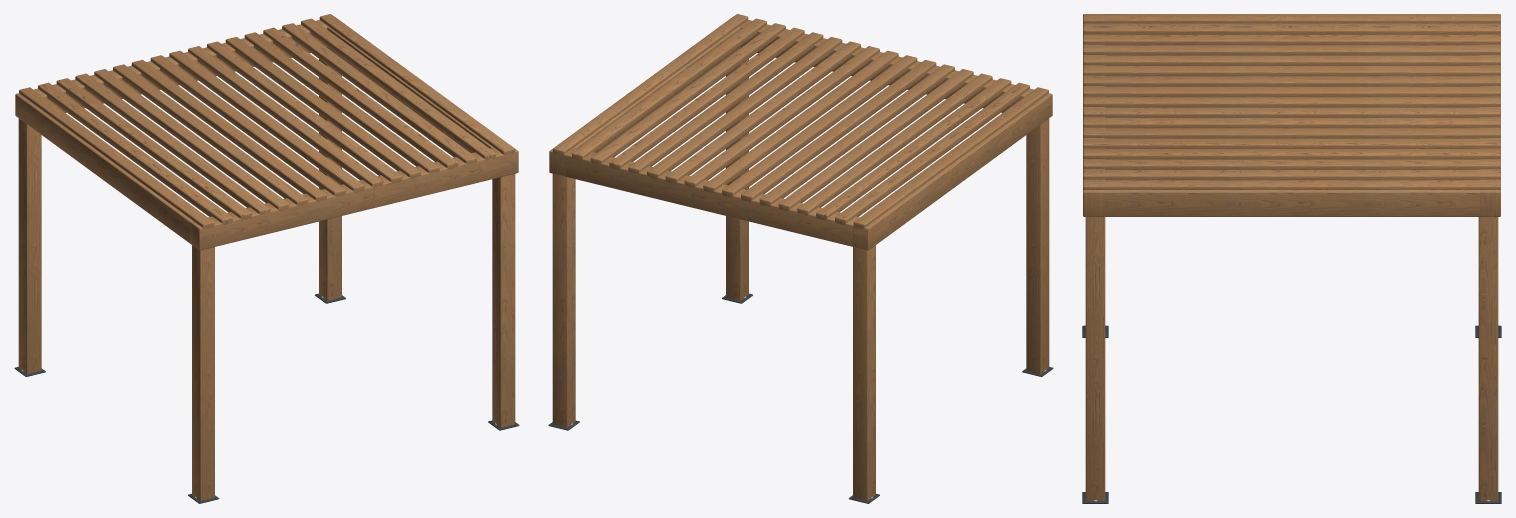
File: pergola_madera_exterior.glb
3 views of the same model, side by side, from view 1: azimuth 30°, elevation 25°; view 2: azimuth 150°, elevation 25°; view 3: azimuth 270°, elevation 25° (orthographic). The views are drawn at different scales.
Parts seen in each view (by area): view 1: pergola_madera_exterior; view 2: pergola_madera_exterior; view 3: pergola_madera_exterior.
Part boxes in pixels (x1,y1,x2,y2): pergola_madera_exterior: [14, 14, 519, 503]; pergola_madera_exterior: [548, 14, 1053, 503]; pergola_madera_exterior: [1082, 14, 1501, 503].
Bounding box in the file's own units: 3.01 × 2.5 × 3.01.
Materials: 3 (1 with a texture image).
